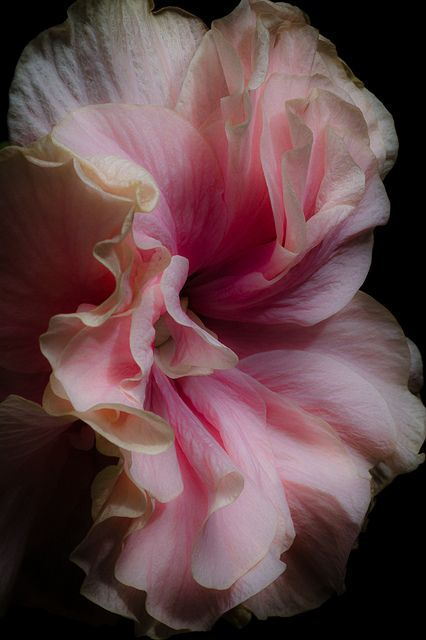Hibiscus: (7, 1, 415, 628)
